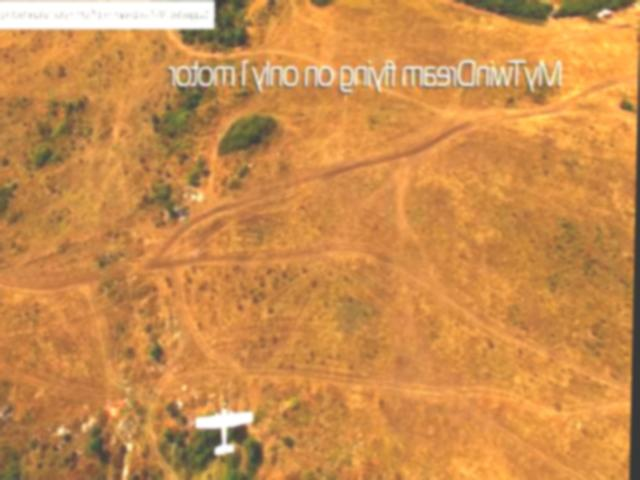uav: (191, 388, 263, 464)
